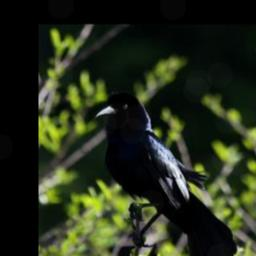Crow: (94, 88, 236, 256)
